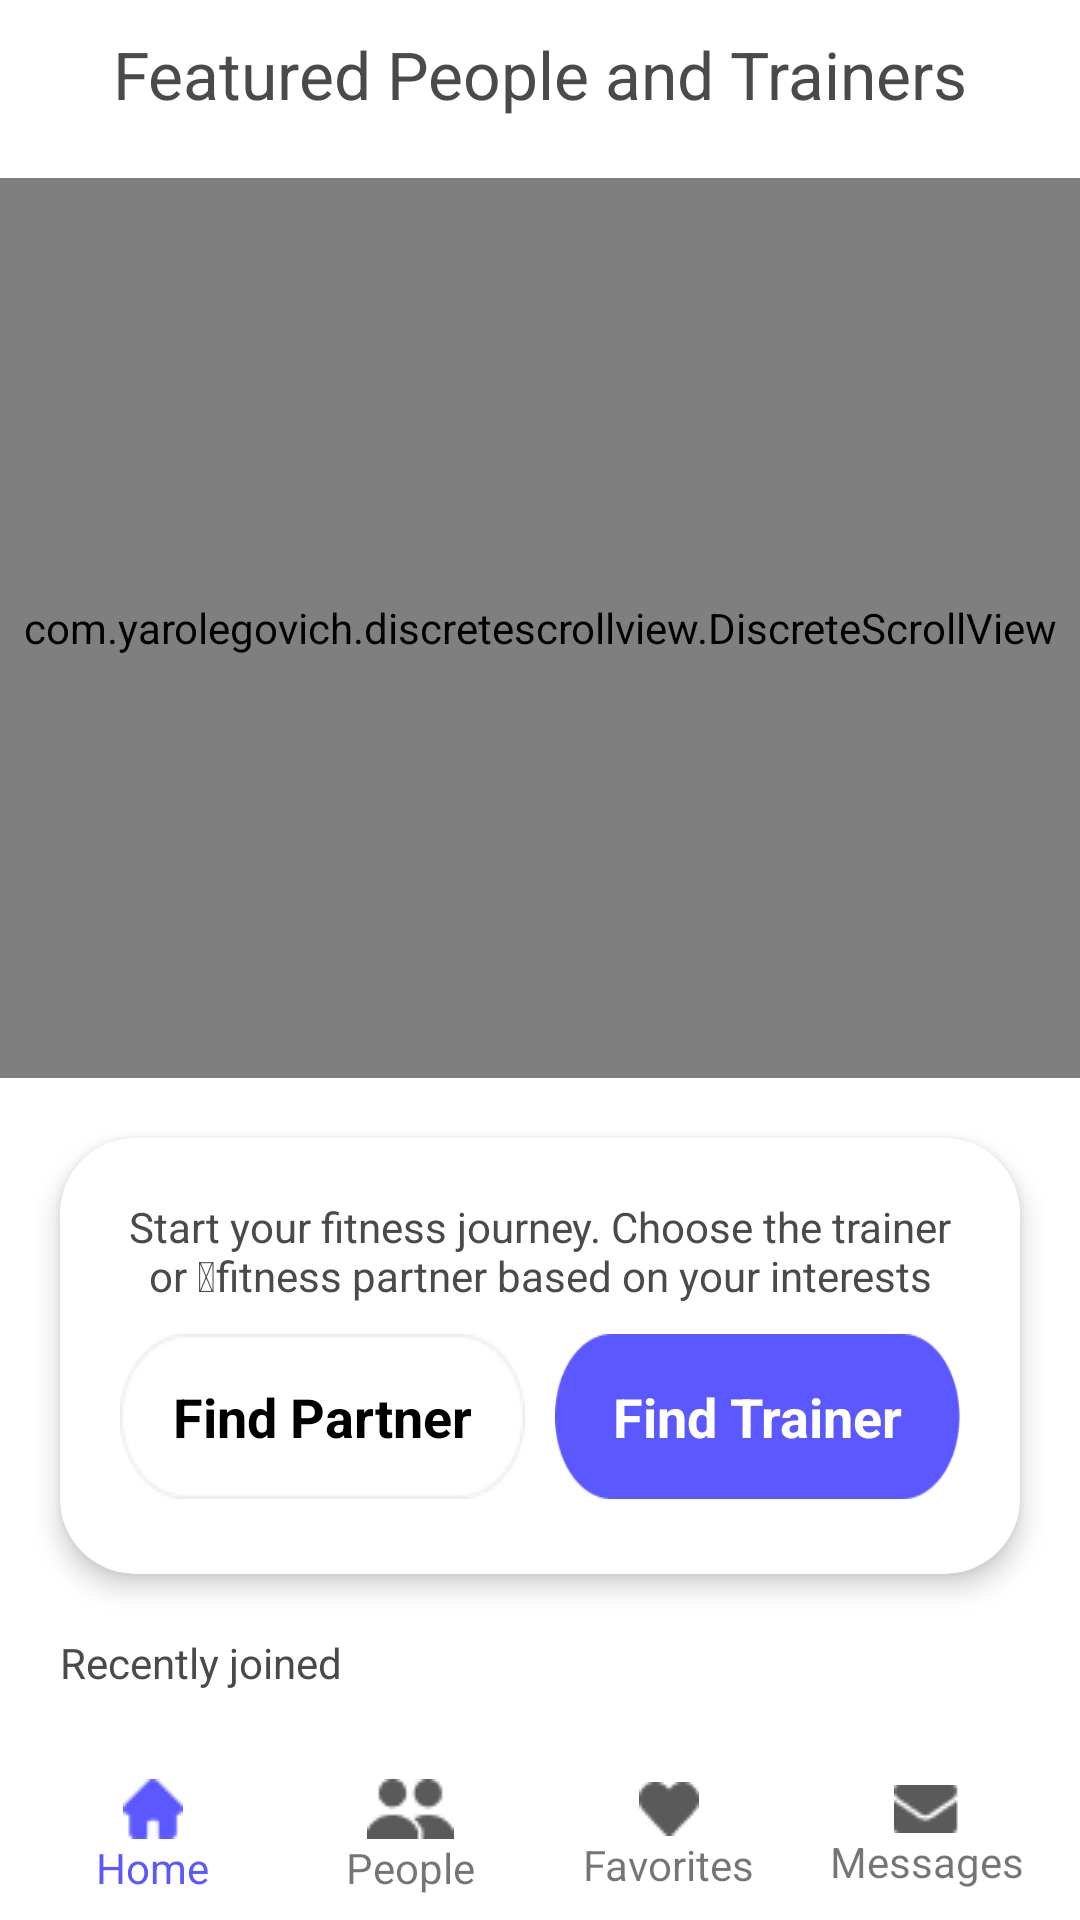

Screen size 1080 x 1920. Icon name, then its center in pixels as [x,y]:
heart: [669,1809]
